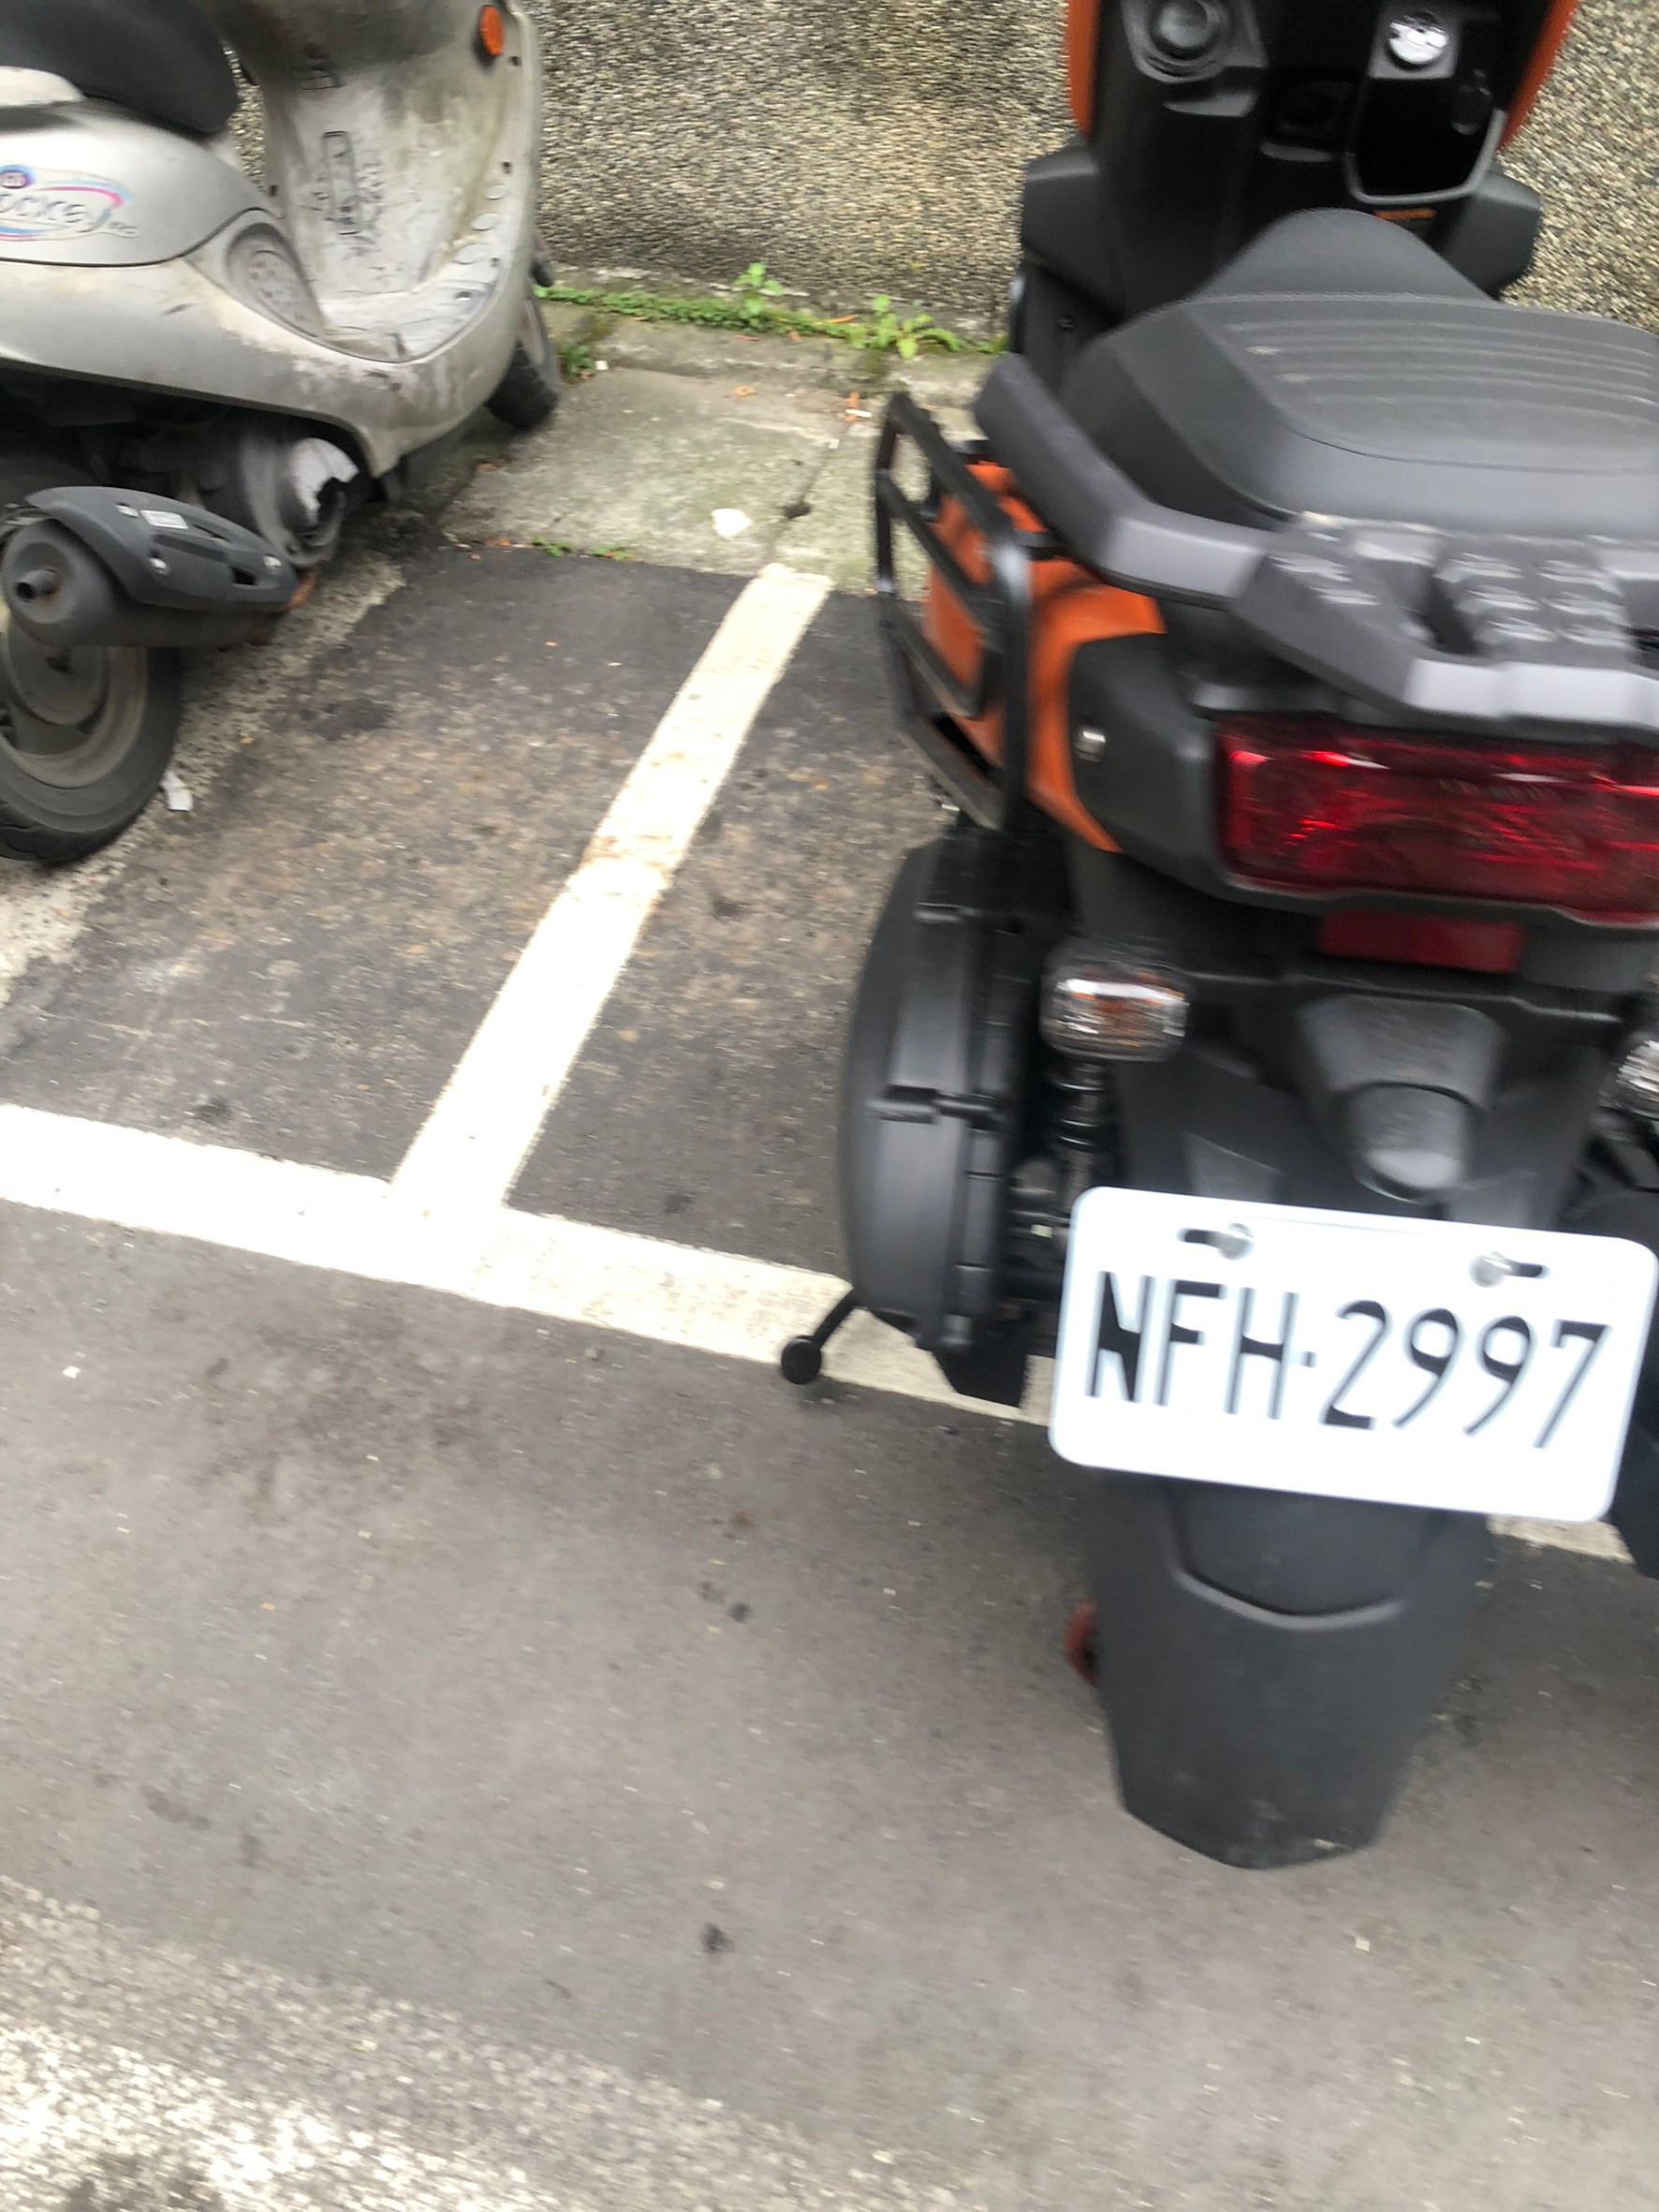LP: (1040, 1180, 1659, 1525)
